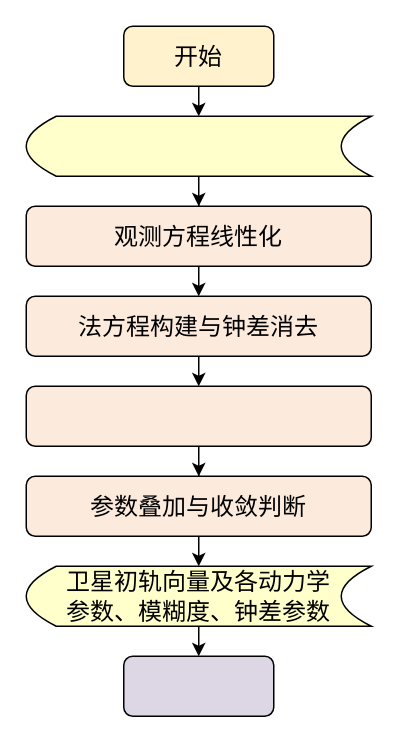
Some shapes in this 398 by 743 pixel diagram are drawn without their labels. Here are the shapes that lost their labels. From the top down, the centre of each, then its label:
At pixel 198 145: "观测数据、参考轨道 及其他 辅助文件".
At pixel 198 415: "最小二乘求解".
At pixel 198 685: "结束".
